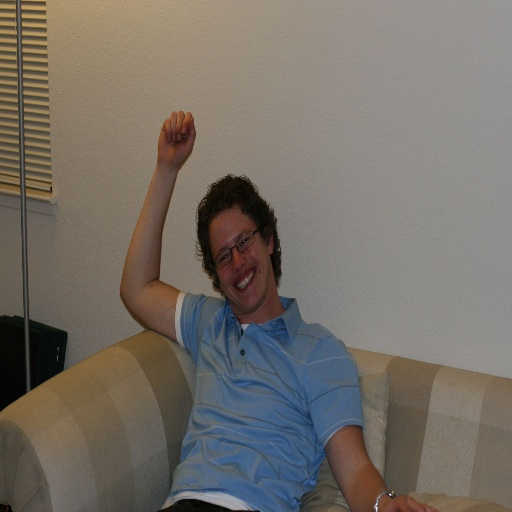hand: (153, 103, 201, 173), (383, 493, 438, 511)
